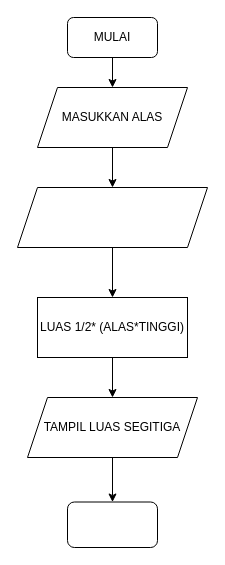
Image size: 225x565. Some labels were removed from this diagram. Here are the shapes that lost their labels. From the top down, the box of each, then its label:
(16, 186, 208, 248): MASUKKAN TINGGI
(66, 501, 158, 548): SELESAI
